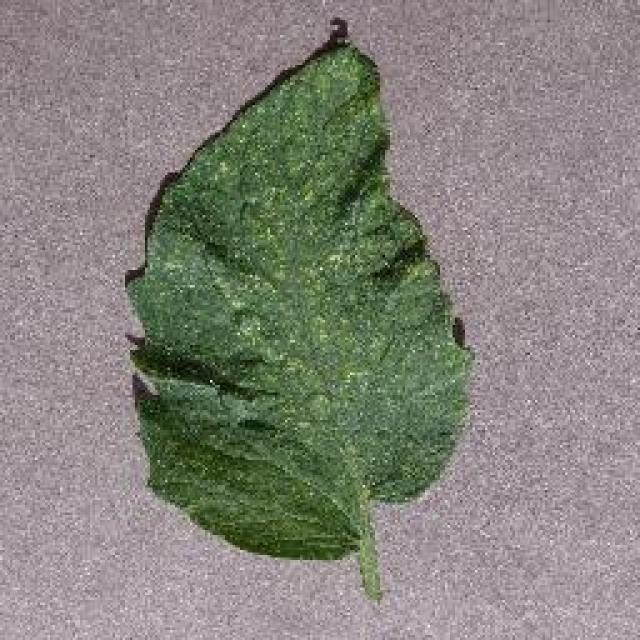Tomato___Spider_mites Two-spotted_spider_mite: (125, 20, 468, 595)
